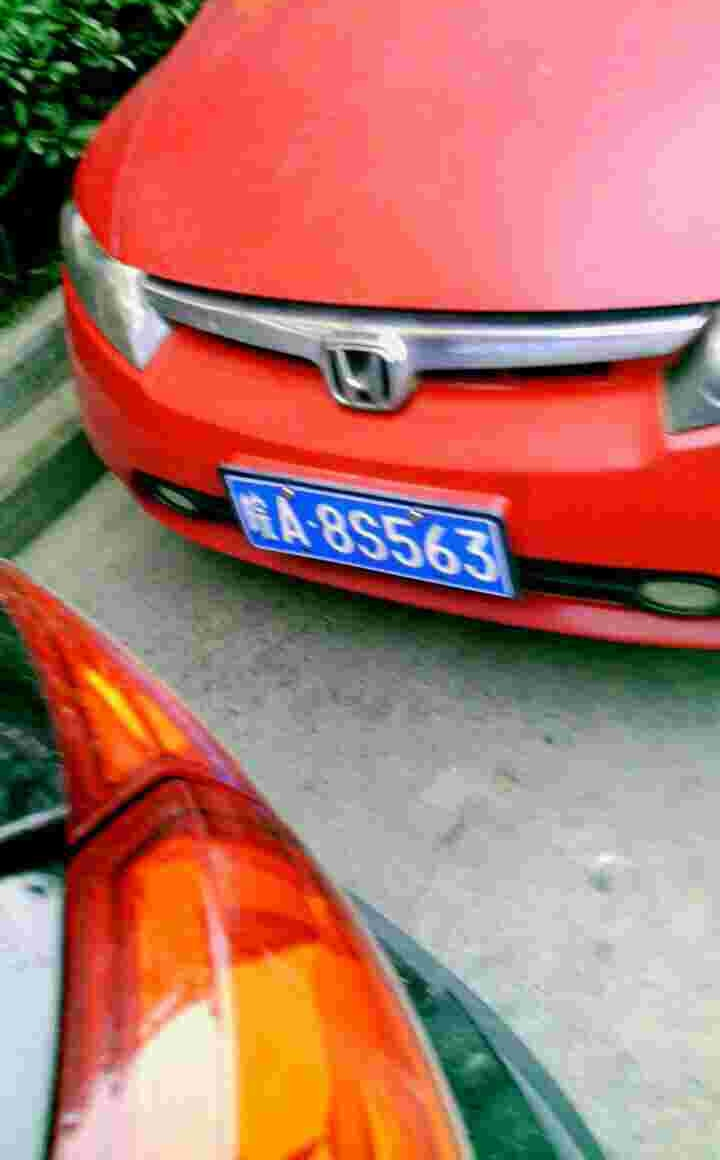license_plate: (229, 472, 504, 601)
